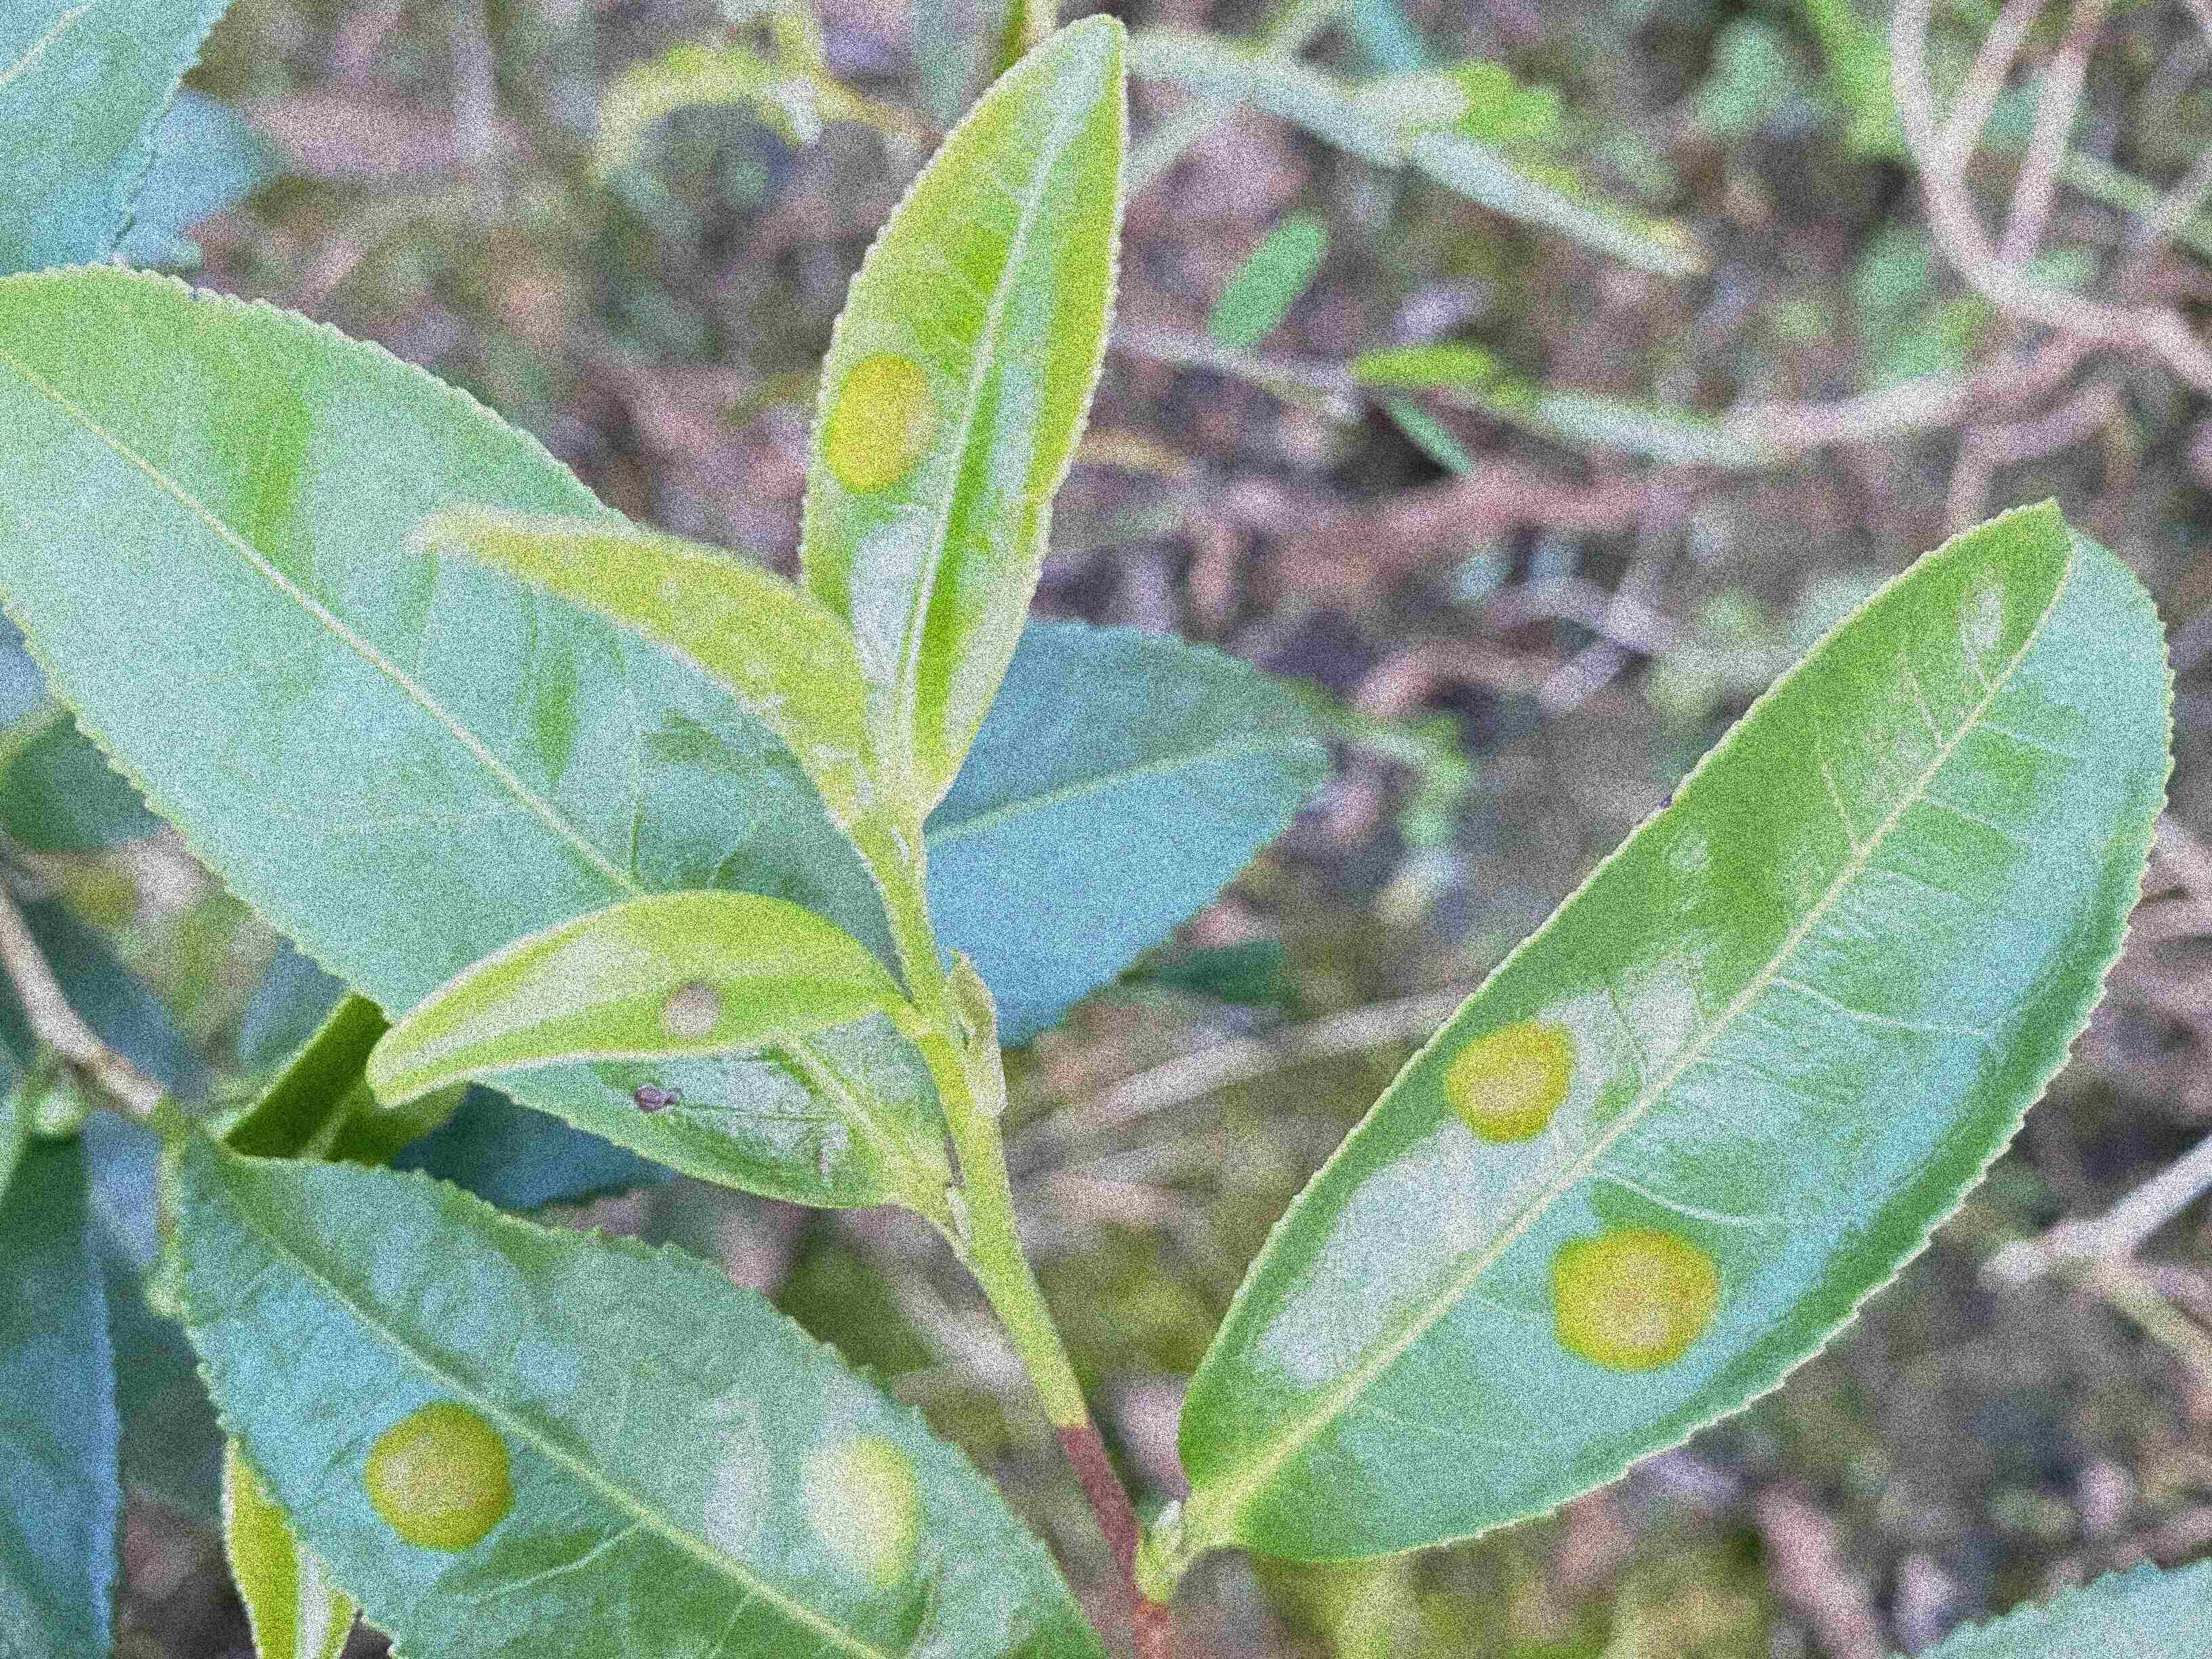chabing_high: (1179, 495, 2181, 1565), (174, 1136, 1104, 1656)
chabing_low: (796, 16, 1136, 829), (368, 889, 909, 1108)
